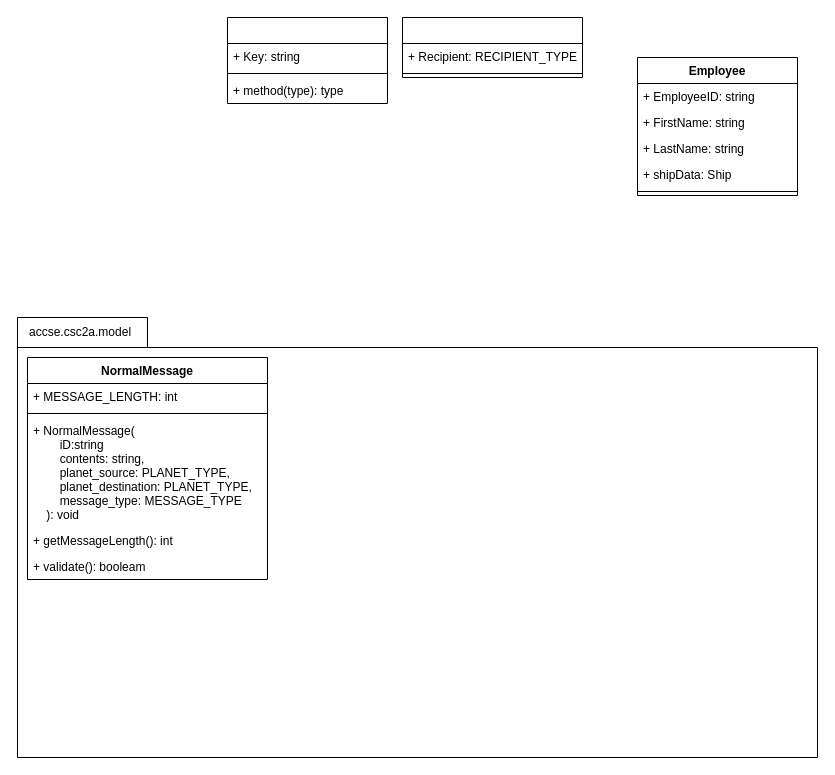
Some shapes in this 835 by 775 pixel diagram are drawn without their labels. The box of each missing label's shape, as (x1, y1, x2, y2) in pixels:
EncryptedMessage: (226, 16, 388, 104)
SOSMessage: (402, 16, 582, 78)
